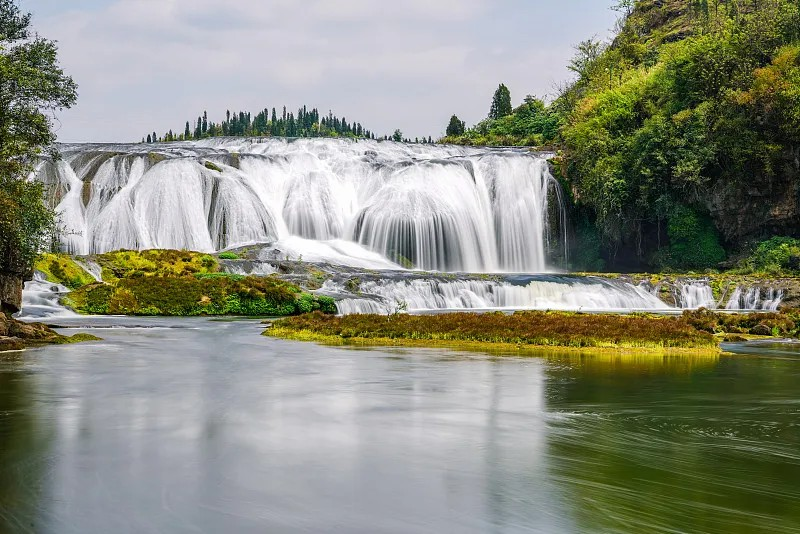Huangguoshu: (32, 136, 548, 273)
